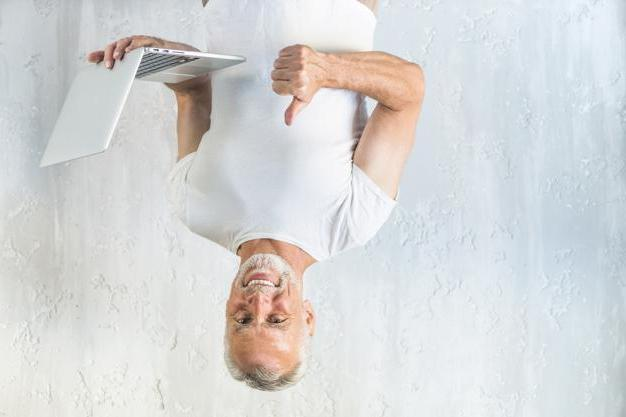thumbsdown: (270, 44, 312, 127)
